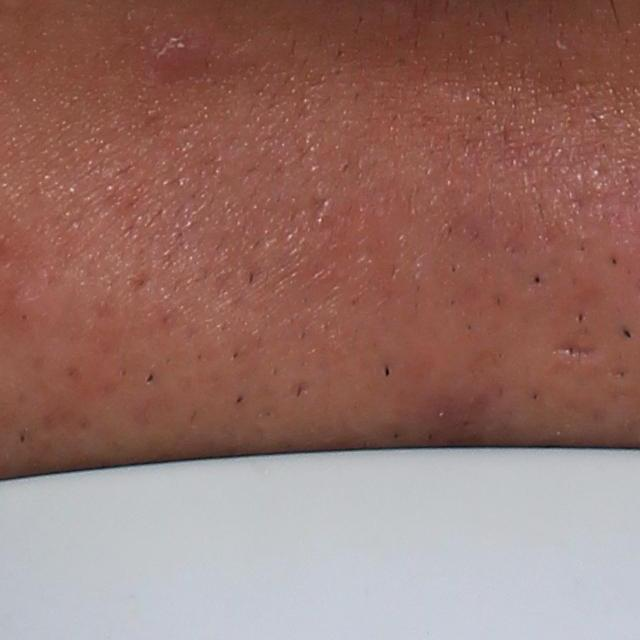atrophic_scar: (546, 342, 603, 362)
papule: (138, 15, 217, 79)
